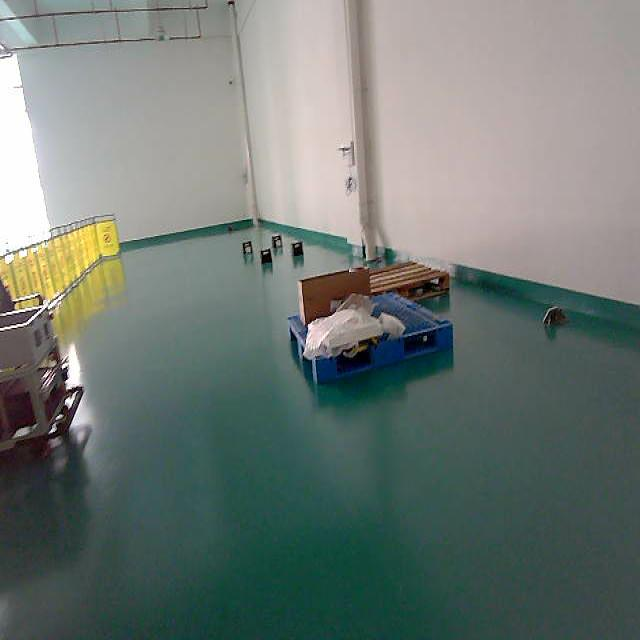euro: (369, 263, 449, 299)
